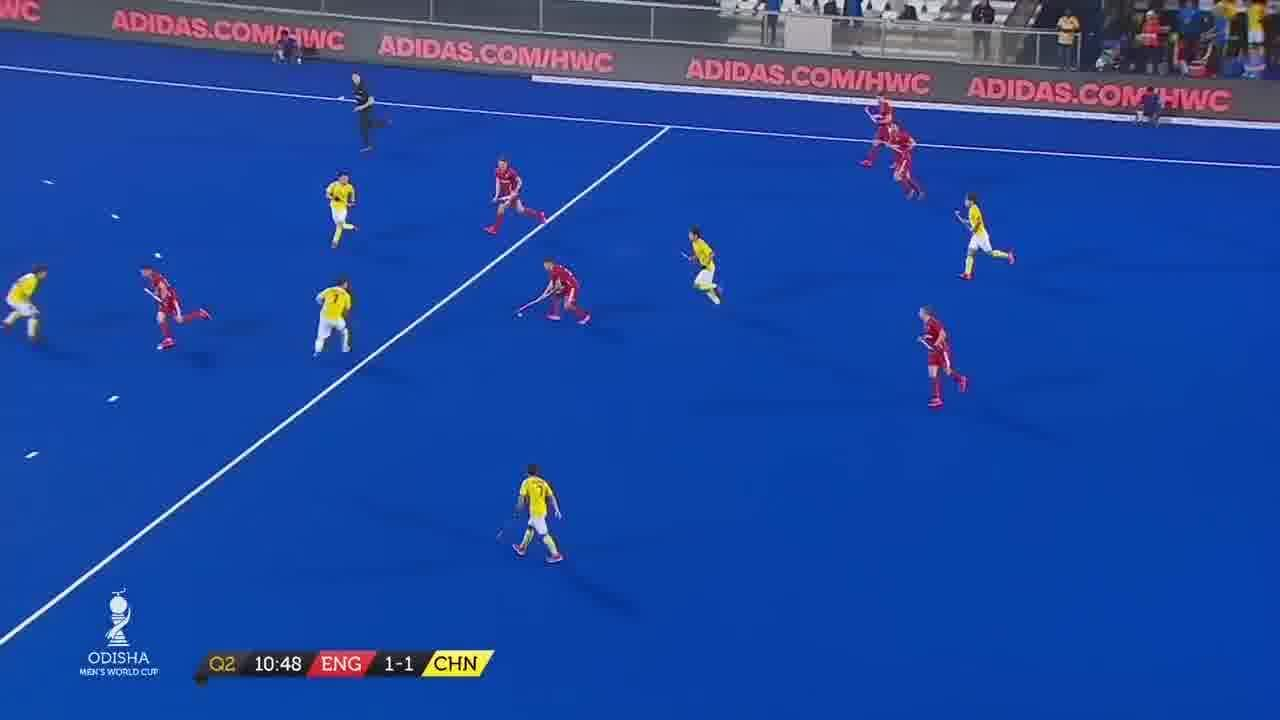ball: (516, 311, 525, 320)
